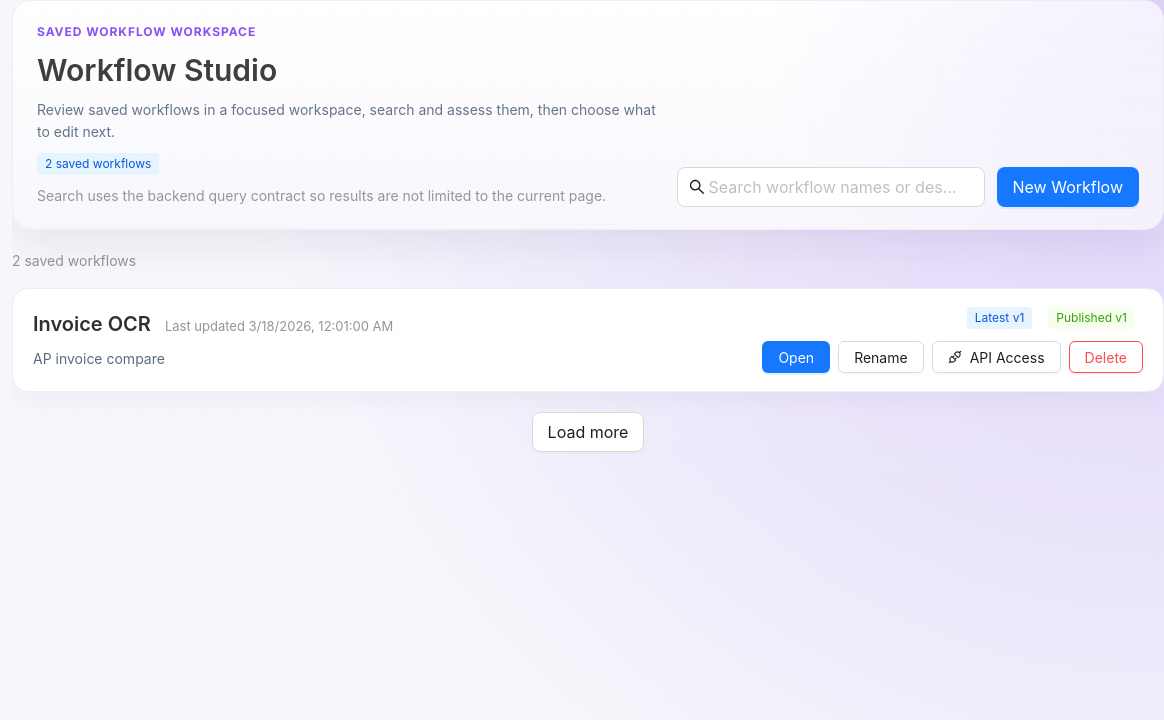
Test: WorkflowStudioPage › supports pagination via load more
expect the heading "Invoice OCR" is shown: met, box [33,310,151,338]
Click the button with test id "workflow-studio-load-more" showing "Load more".
click(588, 432)  # box [532,412,644,452]
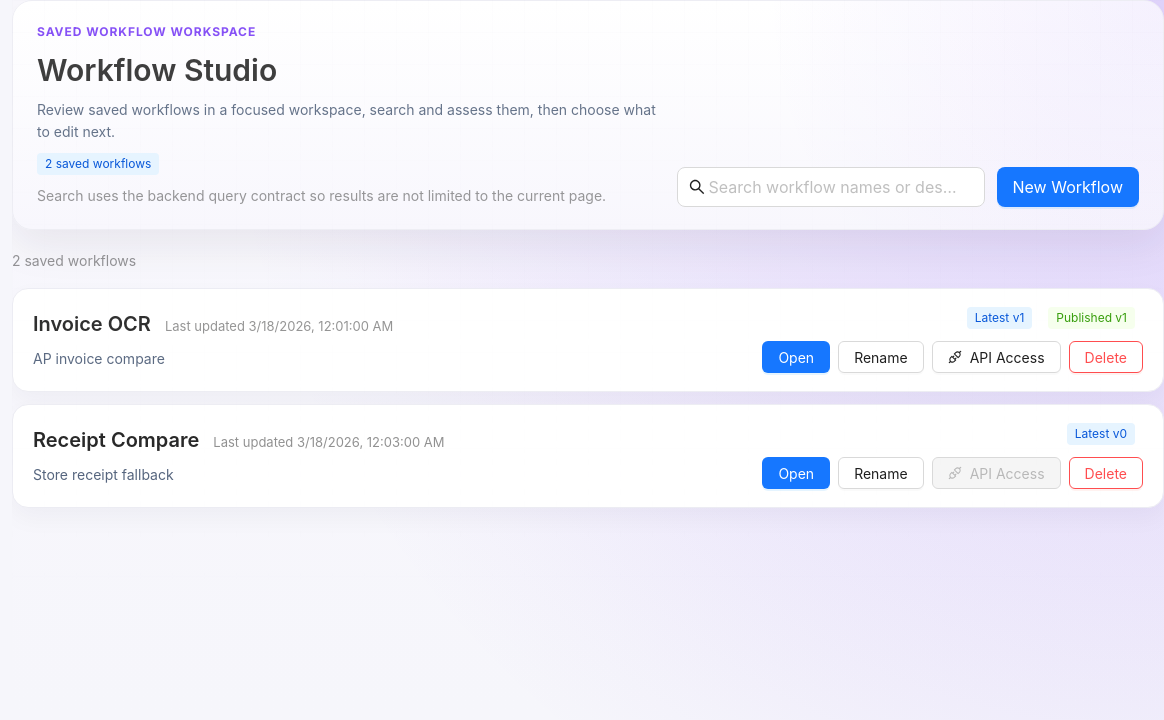
expect the heading "Receipt Compare" is shown: met, box [33,426,199,454]
